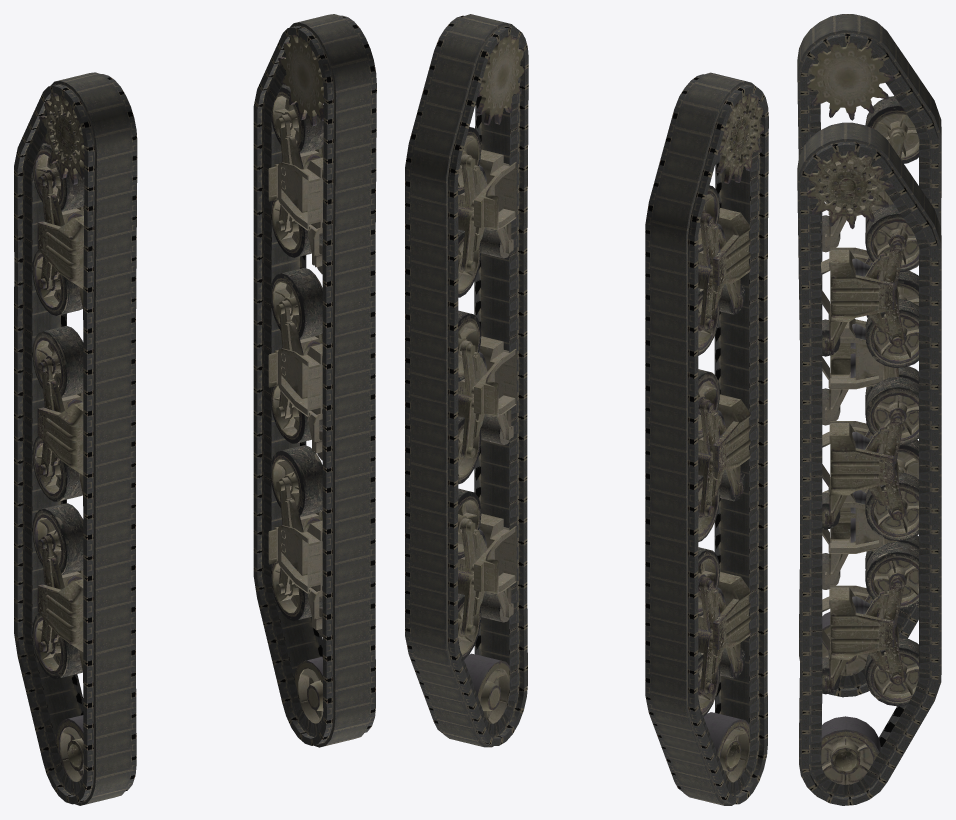
The model's file is Chassis.glb.
The picture shows the model from 3 angles, left to right: view 1: azimuth 30°, elevation 25°; view 2: azimuth 150°, elevation 25°; view 3: azimuth 270°, elevation 25°; orthographic projection. The views are drawn at different scales.
Visible parts, largest first — view 1: set_0_group_0, set_1_group_0, set_3_group_0, set_2_group_0; view 2: set_0_group_0, set_1_group_0, set_3_group_0, set_2_group_0; view 3: set_3_group_0, set_1_group_0, set_2_group_0, set_0_group_0.
Boxes of the visible parts, x1,y1,x2,y2 form: set_0_group_0: (14, 72, 137, 805); set_1_group_0: (253, 14, 376, 747); set_3_group_0: (268, 34, 374, 723); set_2_group_0: (32, 93, 135, 781); set_0_group_0: (645, 72, 768, 805); set_1_group_0: (405, 14, 528, 747); set_3_group_0: (458, 35, 524, 723); set_2_group_0: (698, 93, 763, 782); set_3_group_0: (807, 151, 919, 784); set_1_group_0: (797, 122, 941, 805); set_2_group_0: (807, 42, 919, 675); set_0_group_0: (797, 14, 941, 697).
Size of the model in its own units: 2.47 by 5.85 by 1.15.
Materials: 4 (4 with a texture image).
